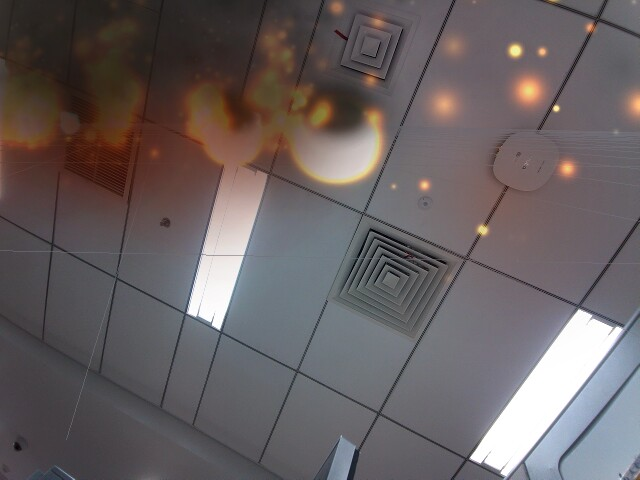fire: (288, 90, 382, 187), (203, 103, 266, 169)
